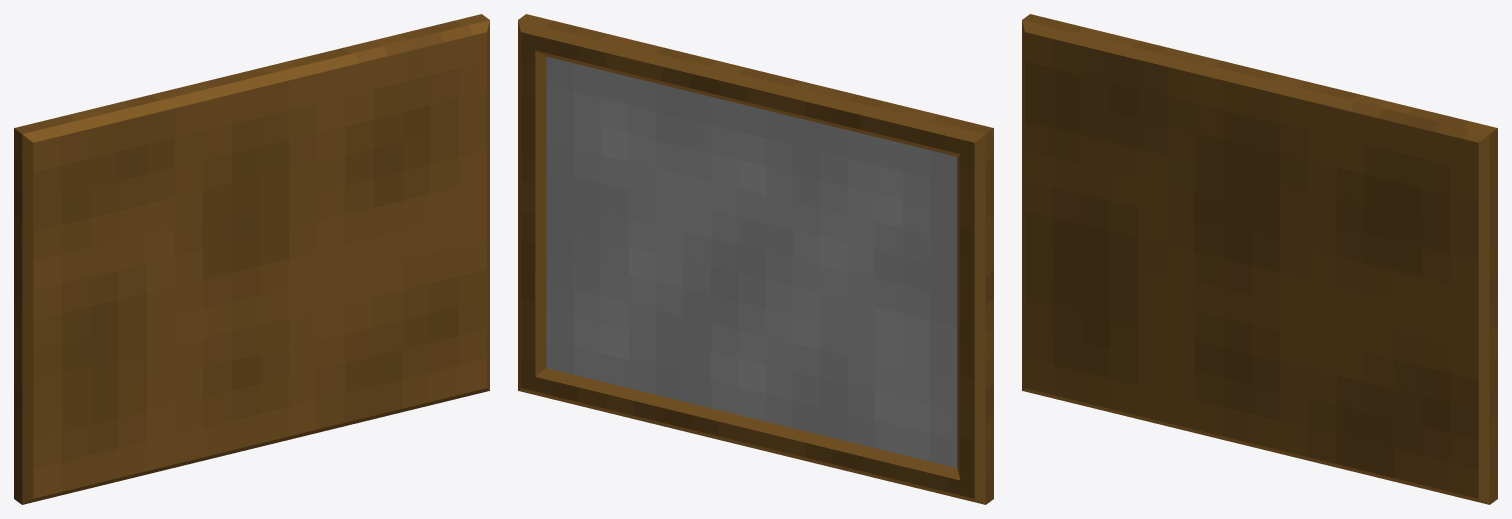
The model's file is painting.fbx.
The picture shows the model from 3 angles, left to right: view 1: azimuth 30°, elevation 25°; view 2: azimuth 150°, elevation 25°; view 3: azimuth 330°, elevation 25°; orthographic projection.
Parts seen in each view (by area): view 1: cuboid; view 2: cuboid; view 3: cuboid.
Boxes of the visible parts, bbox=[...] form: cuboid: bbox=[14, 14, 489, 504]; cuboid: bbox=[518, 14, 993, 504]; cuboid: bbox=[1022, 14, 1497, 504].
Bounding box in the file's own units: 103 × 78.12 × 6.25.
1 material, 1 textured.
